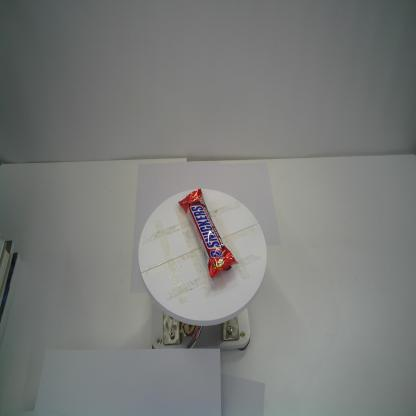Chocolate: (178, 188, 238, 278)
